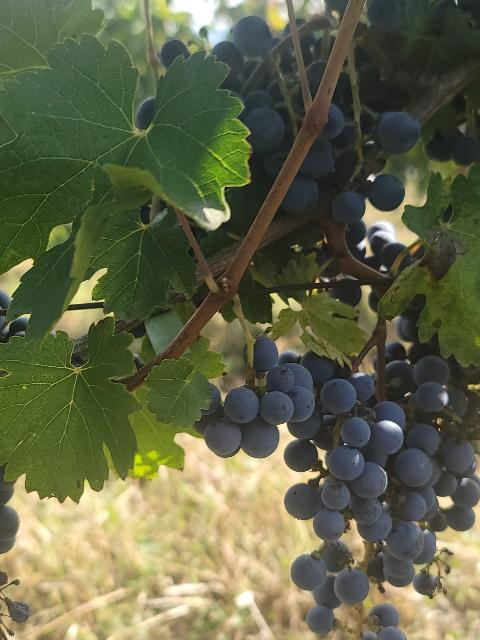grapes: (285, 345, 480, 640), (200, 335, 321, 458)
